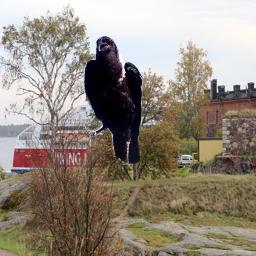Crow: (83, 35, 143, 168)
